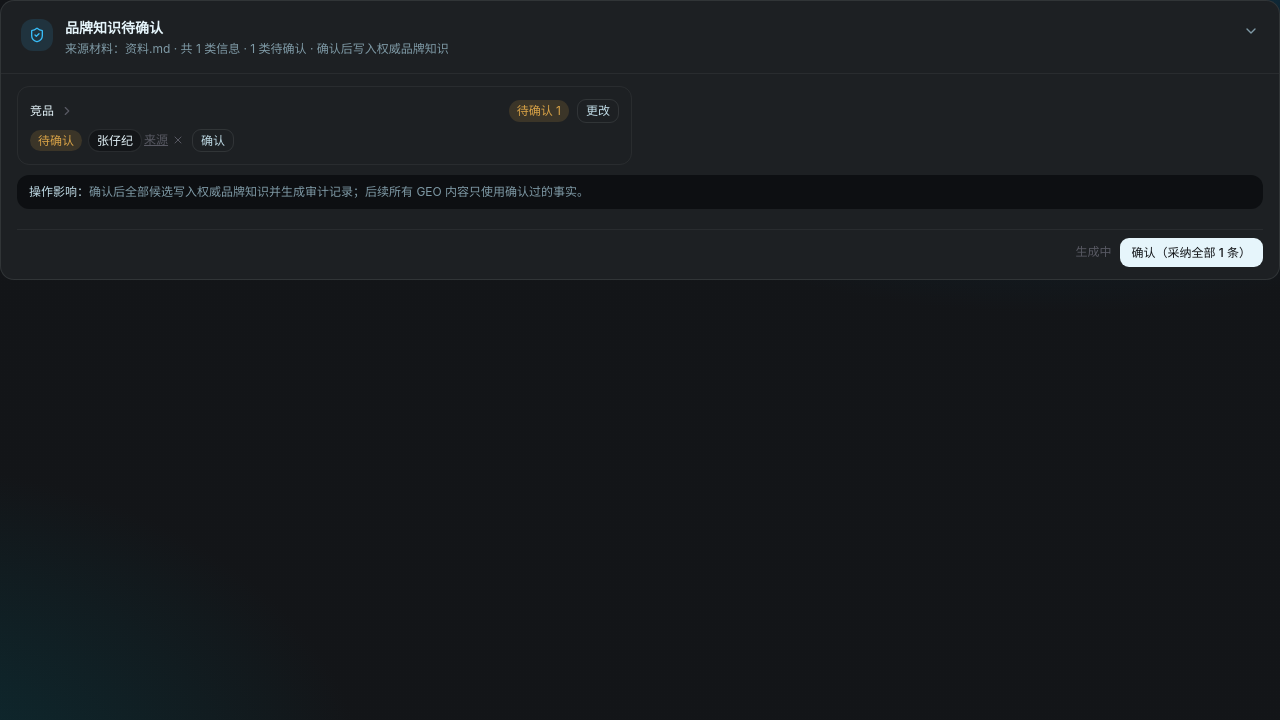
Scenario: KnowledgeBatchCard（字段行复核卡） › 证据摘录里的来源 URL 渲染为可点击外链（竞品证据行留痕可复核）
Click the button "竞品" at (42, 111), box top-left (30, 102), bottom-right (501, 120)
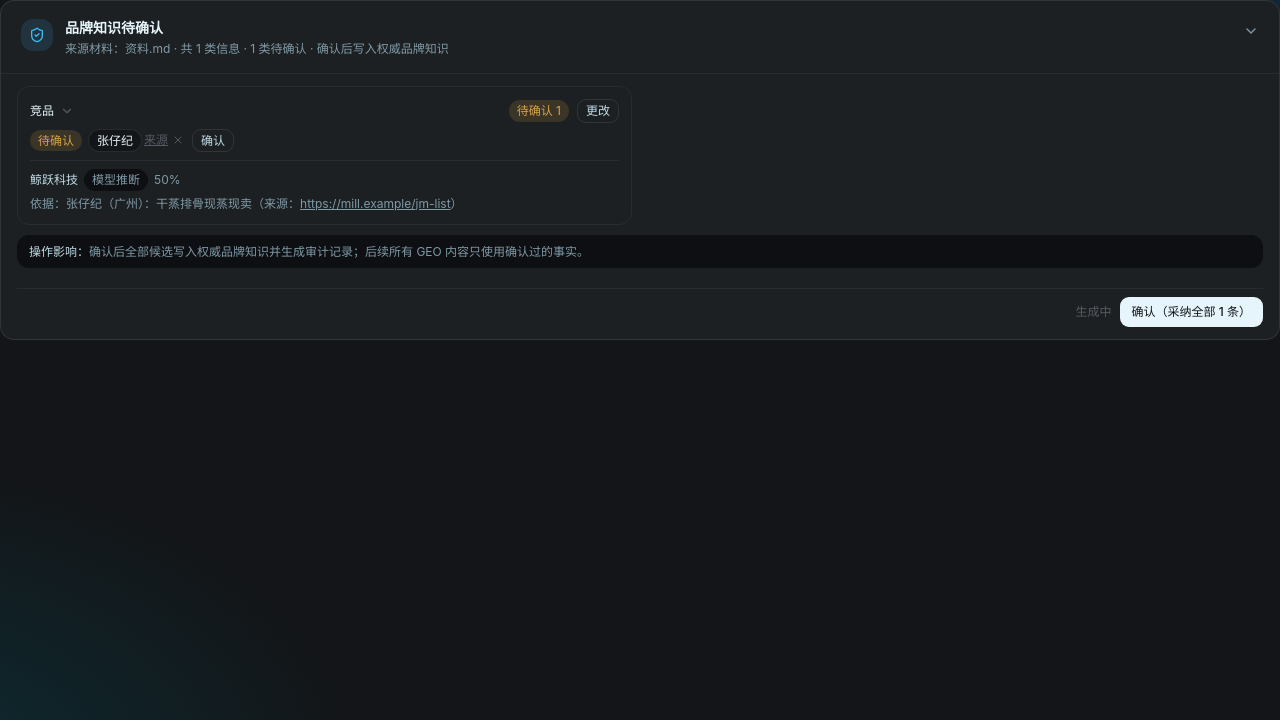
Result: the text "依据：" is shown at top-left (30, 196), bottom-right (66, 211)
Result: the text "张仔纪（广州）：干蒸排骨现蒸现卖（来源：" is shown at top-left (66, 196), bottom-right (300, 211)
